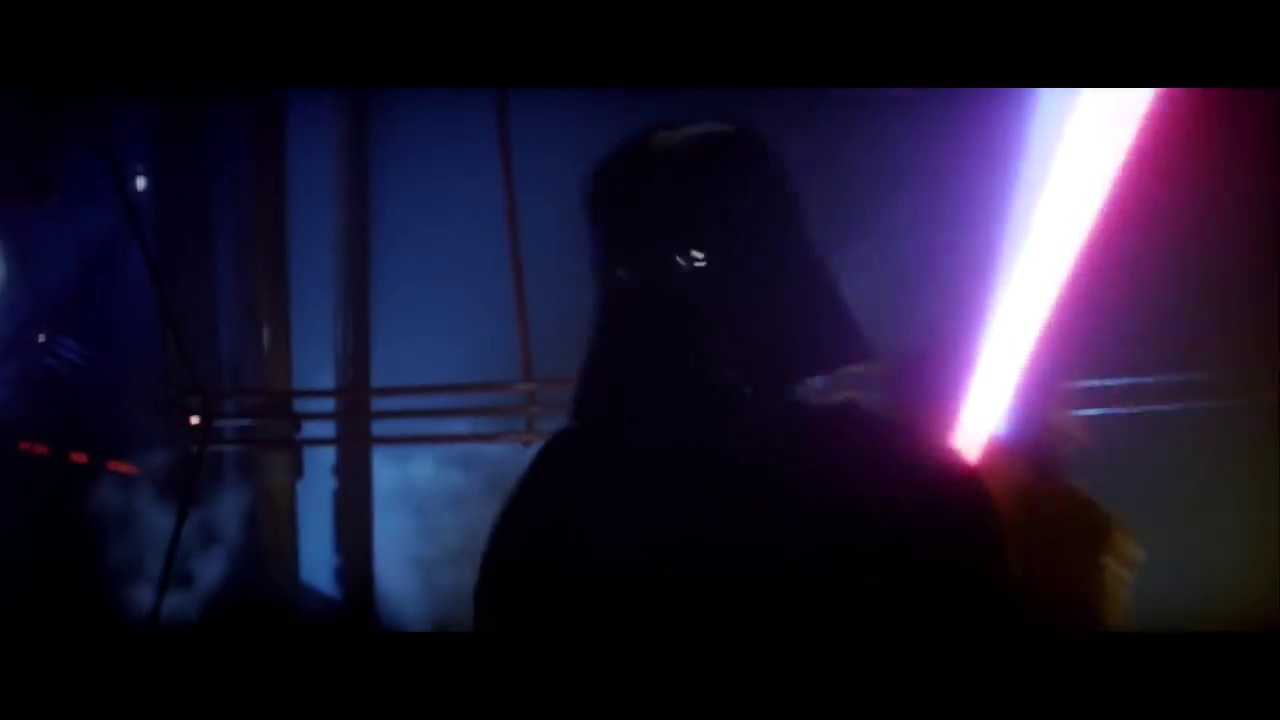lightsaber: (932, 85, 1159, 456)
